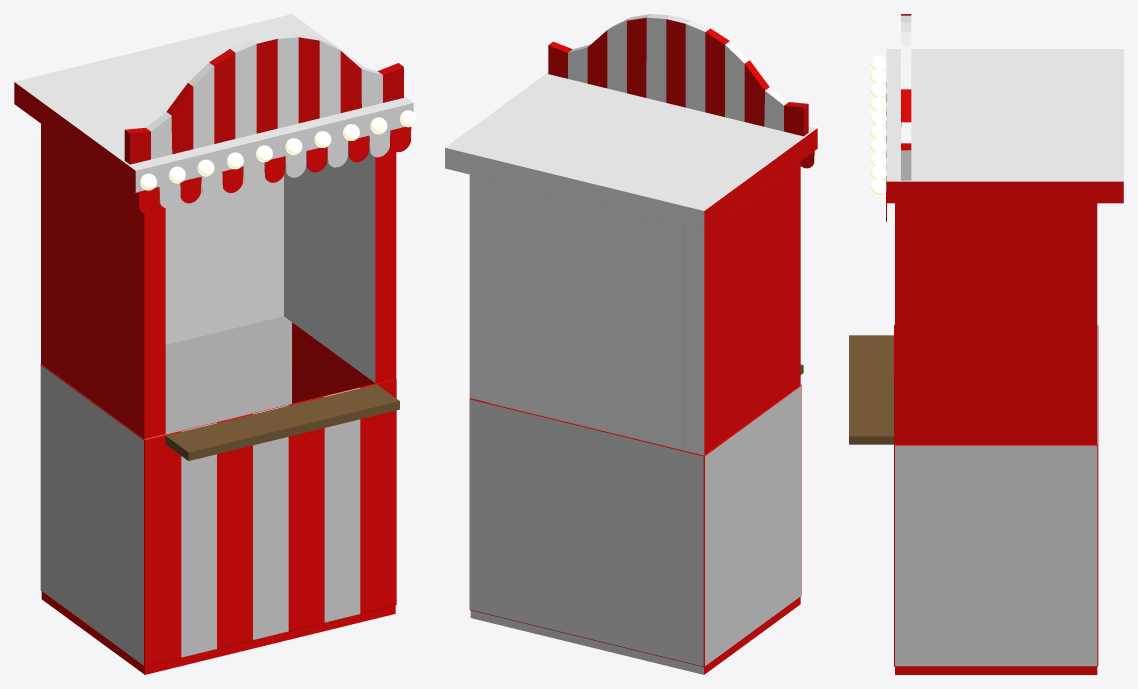
The model's file is ticket_booth.glb.
The picture shows the model from 3 angles, left to right: view 1: azimuth 30°, elevation 25°; view 2: azimuth 150°, elevation 25°; view 3: azimuth 270°, elevation 25°; orthographic projection. The views are drawn at different scales.
Visible parts, largest first — view 1: boothBottom, wallRight, polySurface61, wallLeft, topSign, wallBack, shelf; view 2: boothBottom, wallBack, polySurface61, wallRight, topSign, wallLeft; view 3: wallLeft, boothBottom, polySurface61, shelf, topSign.
Boxes of the visible parts, bbox=[...] form: boothBottom: bbox=[40, 316, 396, 674]; wallRight: bbox=[41, 124, 165, 439]; polySurface61: bbox=[14, 14, 413, 192]; wallLeft: bbox=[284, 136, 396, 382]; topSign: bbox=[124, 33, 403, 164]; wallBack: bbox=[165, 162, 283, 344]; shelf: bbox=[165, 384, 399, 460]; boothBottom: bbox=[469, 385, 801, 674]; wallBack: bbox=[488, 179, 684, 450]; polySurface61: bbox=[445, 72, 817, 231]; wallRight: bbox=[684, 161, 800, 455]; topSign: bbox=[548, 14, 808, 136]; wallLeft: bbox=[469, 174, 488, 402]; wallLeft: bbox=[895, 203, 1097, 444]; boothBottom: bbox=[894, 325, 1098, 674]; polySurface61: bbox=[886, 49, 1123, 203]; shelf: bbox=[849, 335, 893, 444]; topSign: bbox=[901, 14, 911, 180].
Size of the model in its own units: 6.99 by 14.43 by 6.11.
